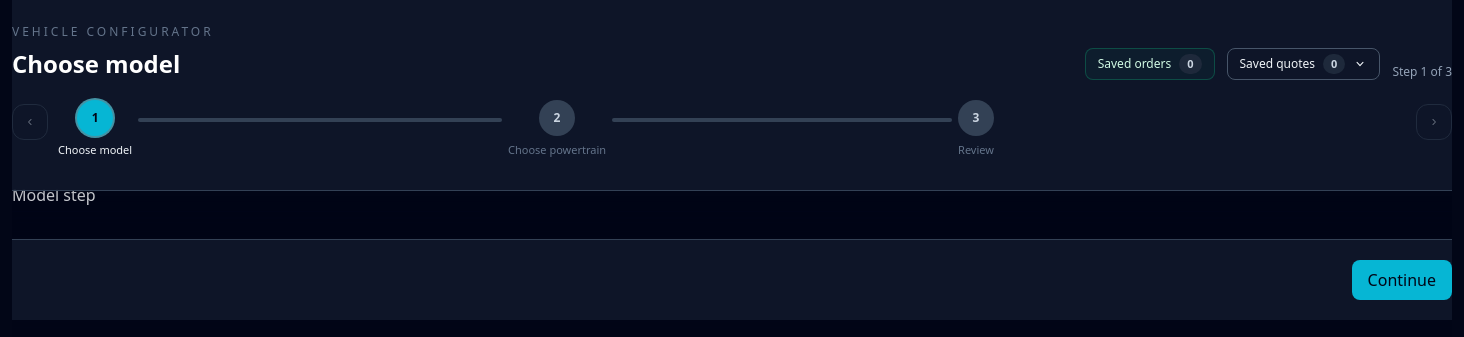
Test: StepWizard › shows a loading state when the saved quotes panel is opened during fetch
Click the button "Saved quotes 0": (1303, 64) [1226,48,1380,80]
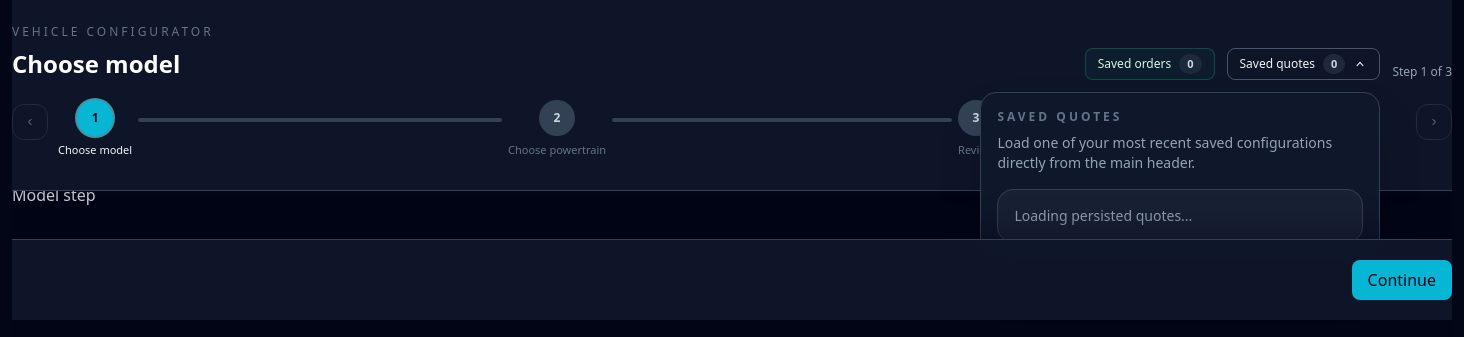
Check: the text "Loading persisted quotes..." is shown, box [997,189,1363,243]
